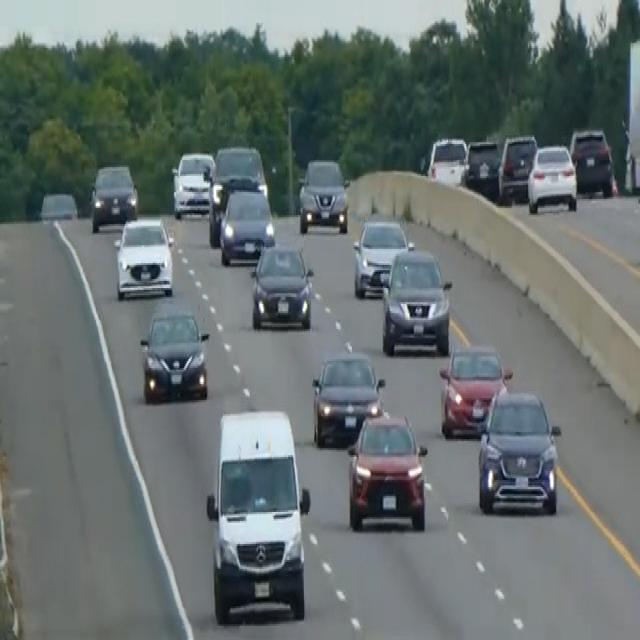car: (477, 388, 561, 516), (346, 406, 428, 532), (379, 244, 452, 356), (310, 347, 385, 446), (438, 342, 512, 438), (139, 306, 210, 404), (207, 142, 268, 244), (249, 240, 314, 331), (112, 213, 174, 299), (352, 215, 410, 299), (218, 185, 275, 265), (297, 156, 350, 234), (526, 140, 578, 213), (89, 162, 138, 231), (569, 125, 615, 198), (170, 147, 214, 217), (497, 132, 537, 202), (463, 137, 501, 197), (426, 133, 467, 187), (38, 190, 78, 222)
minibus: (203, 404, 312, 624)
